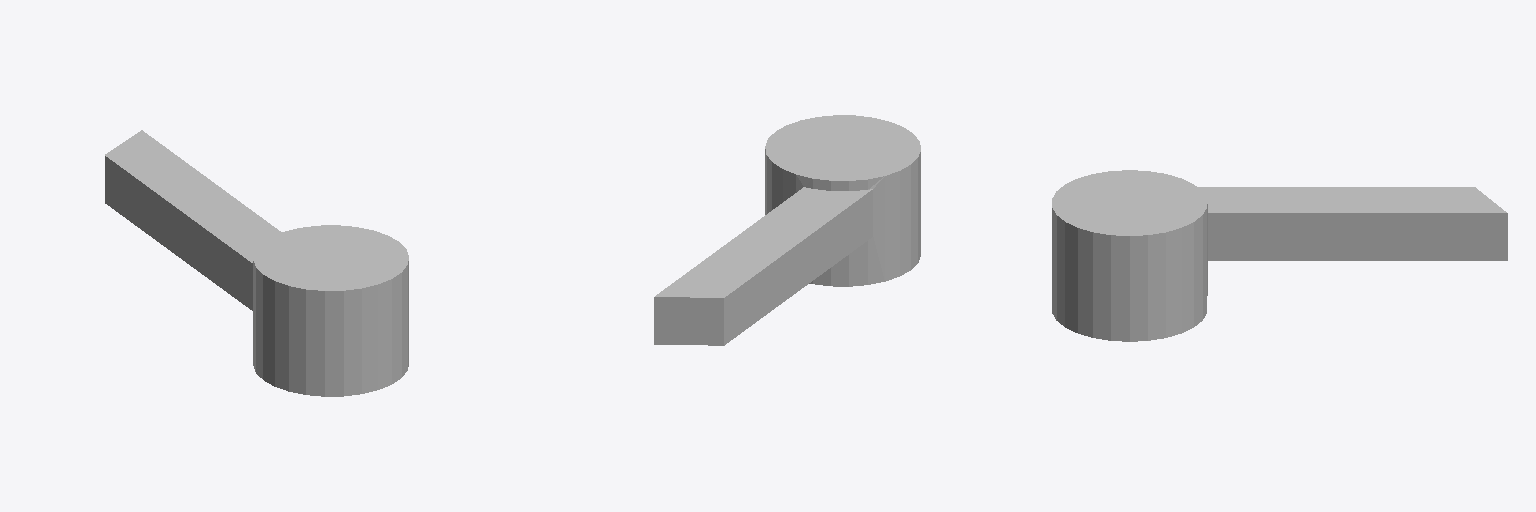
The model's file is L_THIGH_C.obj.
3 views of the same model, side by side, from view 1: azimuth 30°, elevation 25°; view 2: azimuth 150°, elevation 25°; view 3: azimuth 270°, elevation 25° (orthographic).
Visible parts, largest first — view 1: default; view 2: default; view 3: default.
Boxes of the visible parts, box(x1,y1,x2,y2) form: default: box(105, 130, 408, 396); default: box(654, 115, 920, 345); default: box(1052, 170, 1507, 341).
Bounding box in the file's own units: 0.11 × 0.082 × 0.3206.